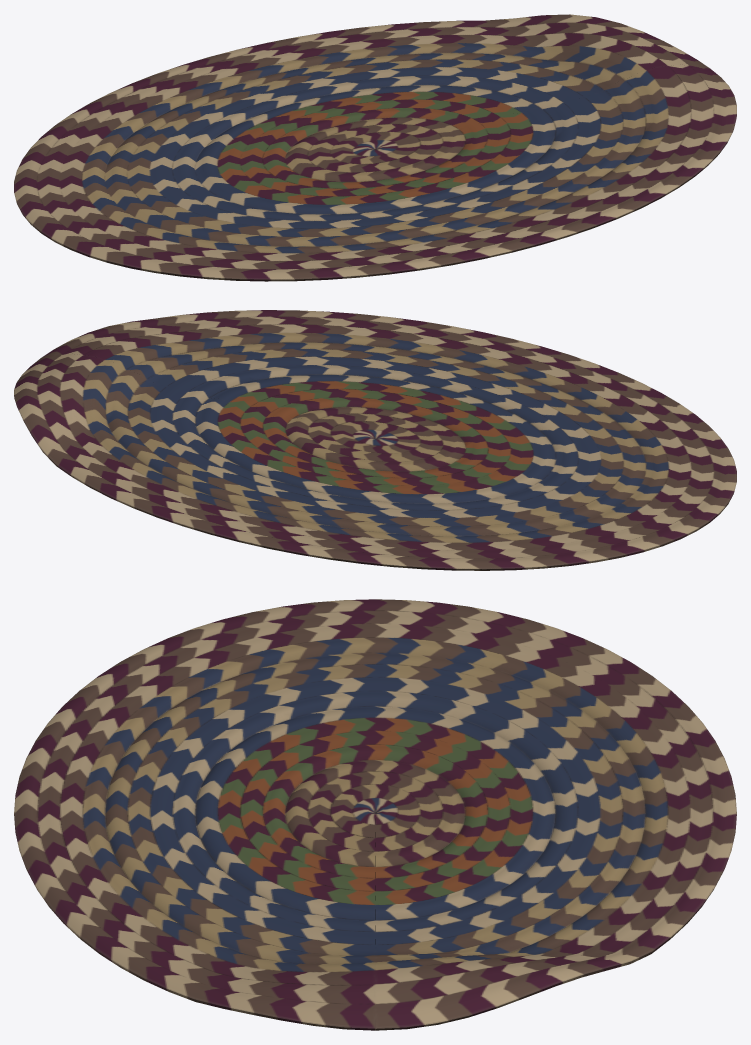
The model's file is BraidedRug.fbx.
The picture shows the model from 3 angles, top to bottom: view 1: azimuth 30°, elevation 25°; view 2: azimuth 150°, elevation 25°; view 3: azimuth 270°, elevation 25°; orthographic projection. The views are drawn at different scales.
Visible parts, largest first — view 1: BraidedRug; view 2: BraidedRug; view 3: BraidedRug.
Part boxes in pixels (box(x1,y1,x2,y2)): BraidedRug: box(14, 14, 736, 281); BraidedRug: box(14, 310, 736, 570); BraidedRug: box(14, 599, 736, 1030).
Bounding box in the file's own units: 903 × 24.09 × 643.
